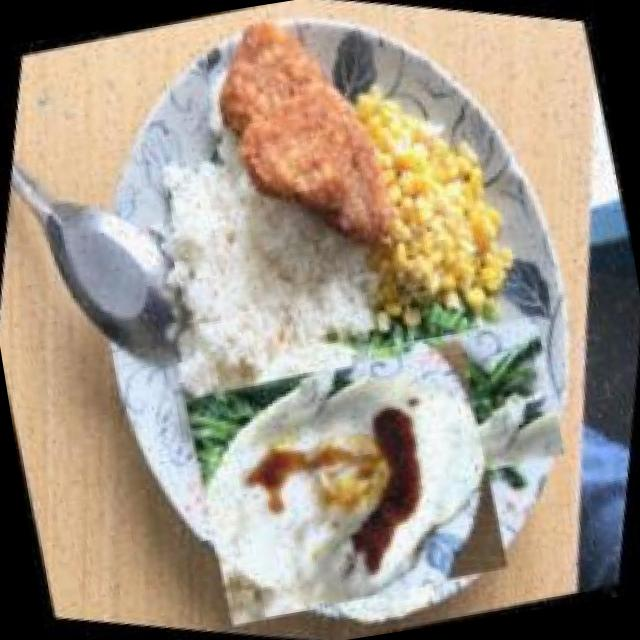fried_eggs: (122, 259, 562, 640)
rice: (100, 102, 412, 422)
triangle_hash_brown: (145, 0, 460, 312)
water_spinach: (317, 261, 603, 547)
